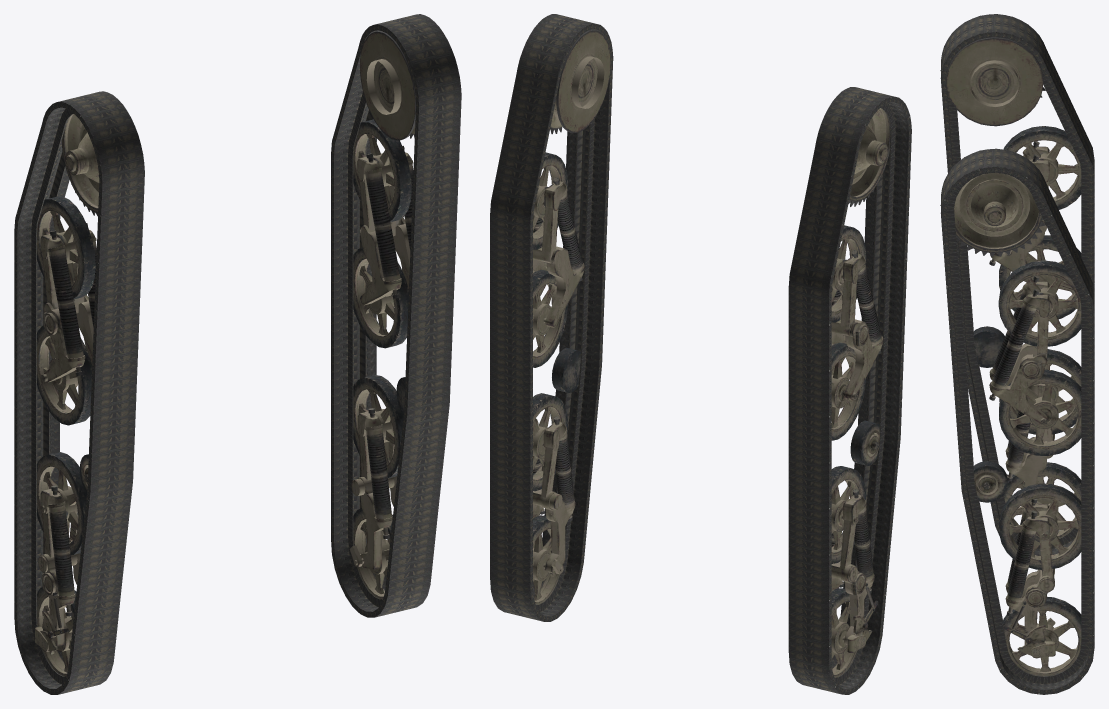
File: Chassis.glb
3 views of the same model, side by side, from view 1: azimuth 30°, elevation 25°; view 2: azimuth 150°, elevation 25°; view 3: azimuth 270°, elevation 25° (orthographic). The views are drawn at different scales.
Visible parts, largest first — view 1: set_0_group_0, set_1_group_0, set_3_group_0, set_2_group_0; view 2: set_0_group_0, set_1_group_0, set_3_group_0, set_2_group_0; view 3: set_3_group_0, set_1_group_0, set_2_group_0, set_0_group_0.
Part boxes in pixels (x1,y1,x2,y2): set_0_group_0: (14, 91, 144, 694); set_1_group_0: (331, 14, 461, 617); set_3_group_0: (349, 31, 440, 599); set_2_group_0: (35, 114, 124, 676); set_0_group_0: (788, 87, 911, 694); set_1_group_0: (490, 14, 613, 621); set_3_group_0: (533, 30, 610, 604); set_2_group_0: (831, 108, 890, 677); set_3_group_0: (940, 172, 1081, 676); set_1_group_0: (941, 148, 1094, 694); set_2_group_0: (940, 37, 1081, 538); set_0_group_0: (941, 14, 1094, 555).
Bounding box in the file's own units: 2.08 × 3.29 × 0.8686.
4 materials, 4 textured.
